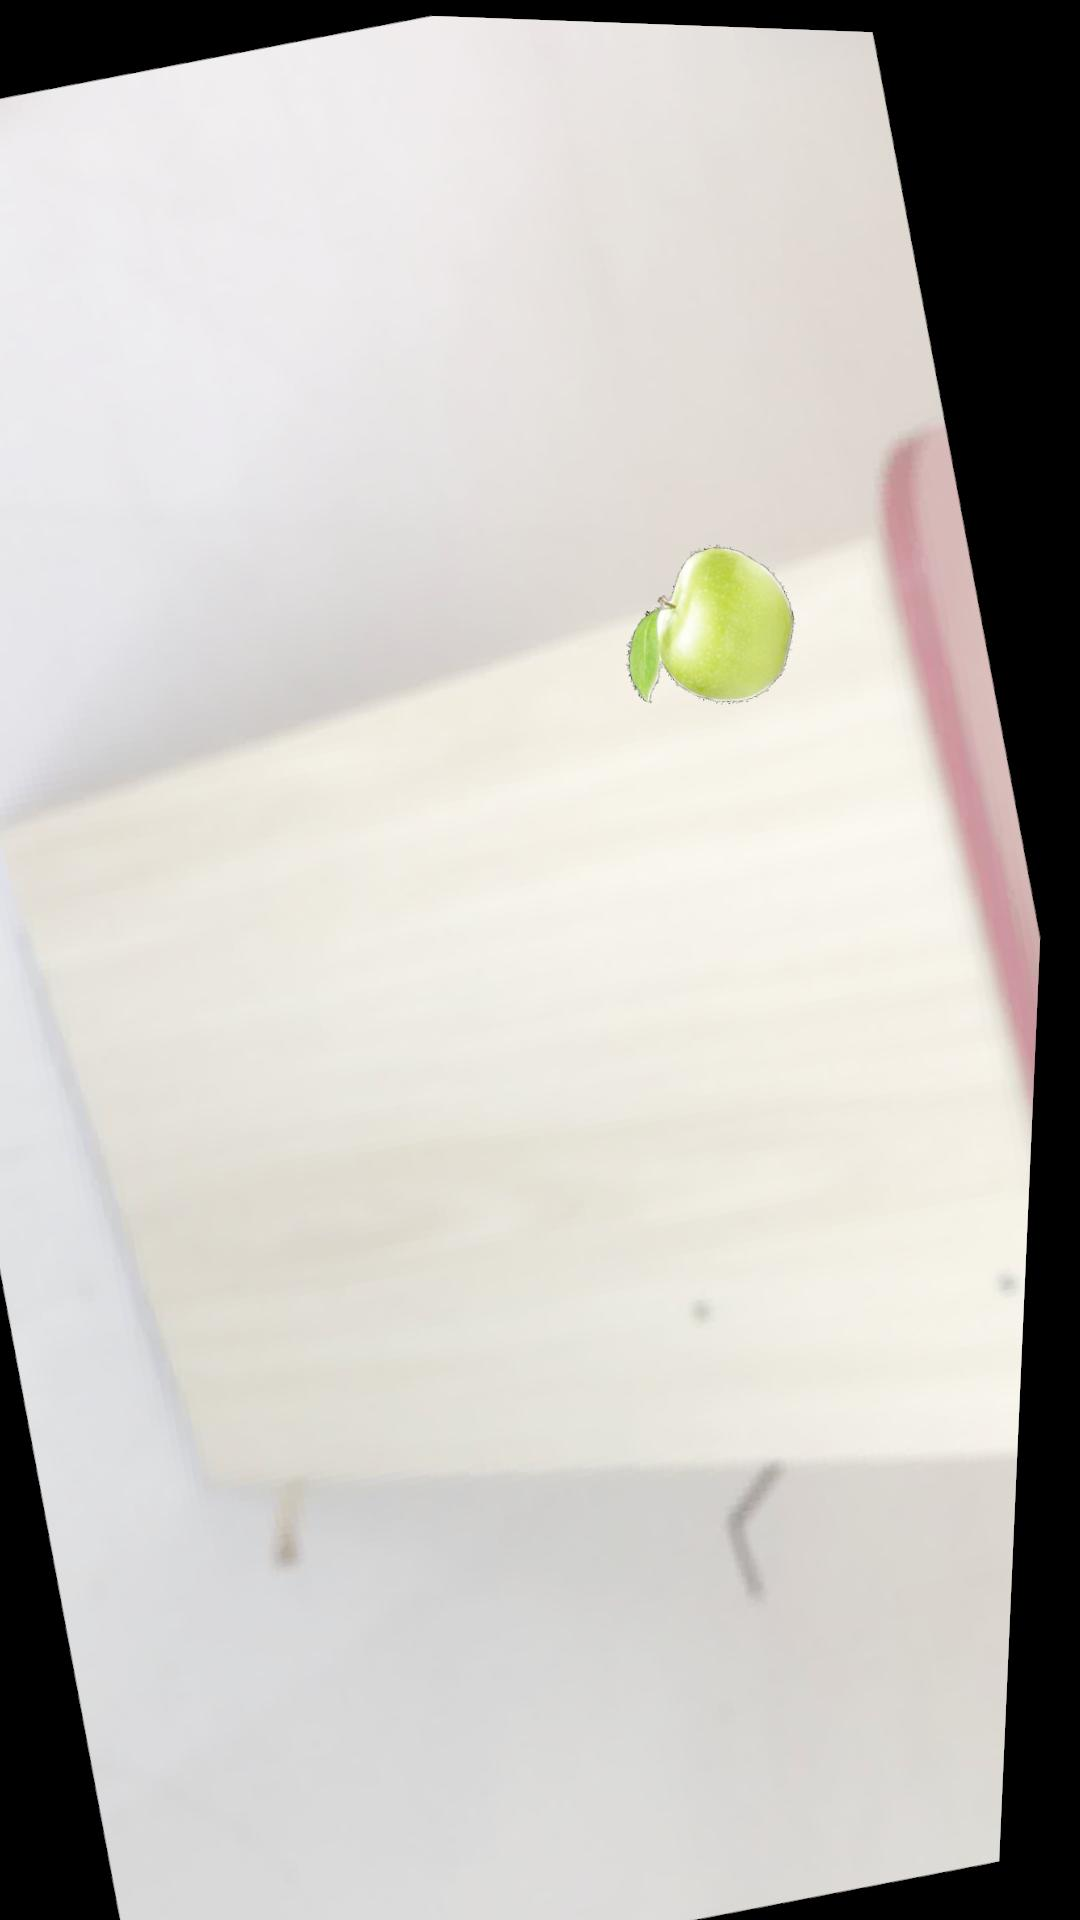green apple: (632, 539, 798, 695)
